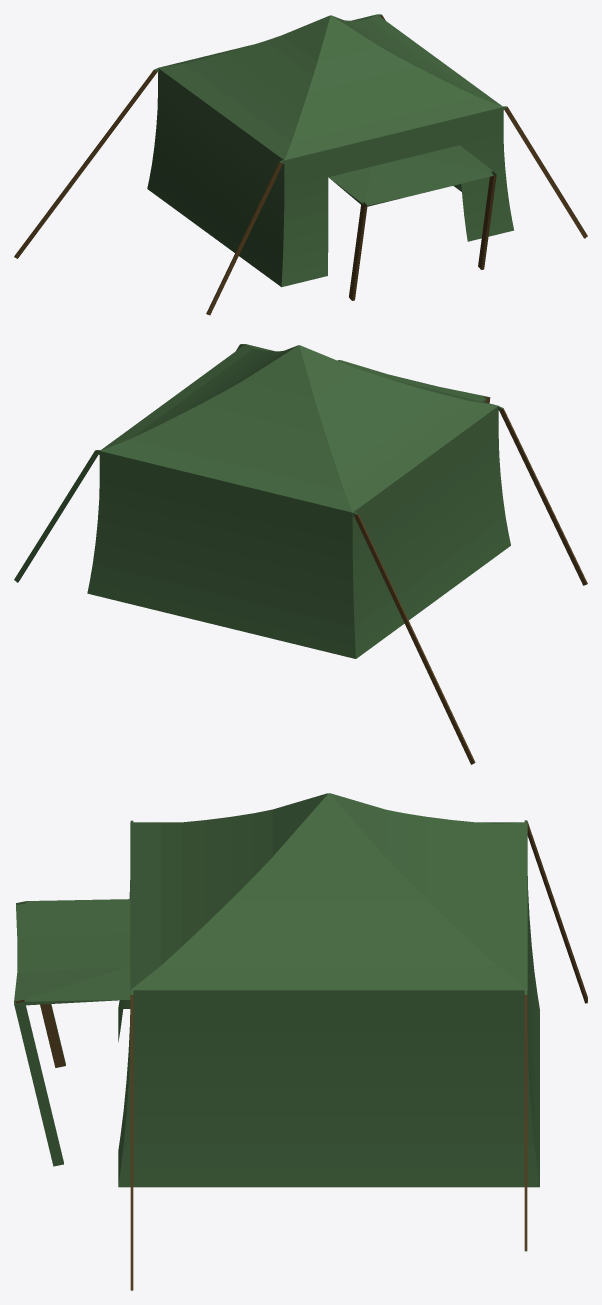
The model's file is greinTent.gltf.
3 views of the same model, one above another, from view 1: azimuth 30°, elevation 25°; view 2: azimuth 150°, elevation 25°; view 3: azimuth 270°, elevation 25° (orthographic). The views are drawn at different scales.
Parts seen in each view (by area): view 1: Cube; view 2: Cube; view 3: Cube.
Boxes of the visible parts, x1,y1,x2,y2 form: Cube: [14, 14, 587, 315]; Cube: [14, 344, 587, 764]; Cube: [14, 793, 587, 1290].
Bounding box in the file's own units: 5.87 × 3.22 × 4.34.
